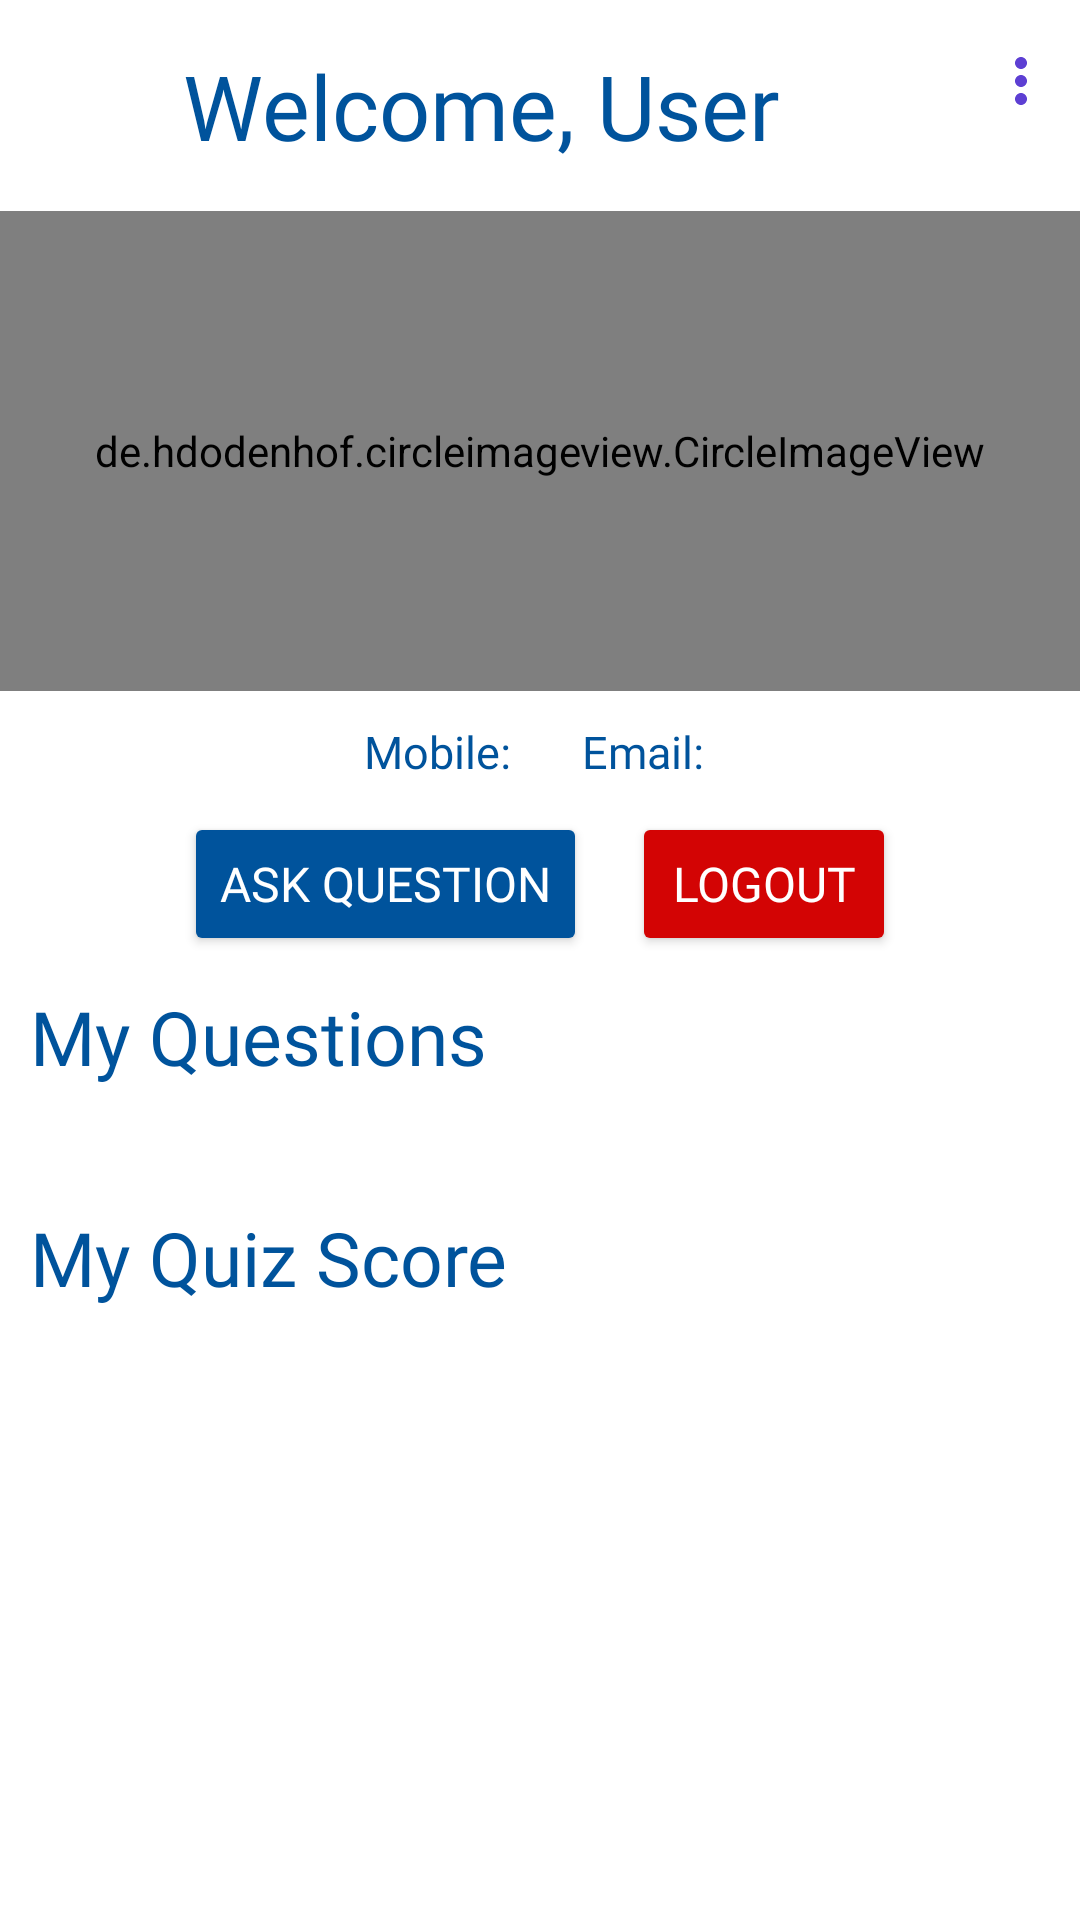

Icon bounding boxes for this 1080w x 1920h phone screenshot, format (x1, y1, x2, y2):
more vert: (1015, 57, 1027, 105)
